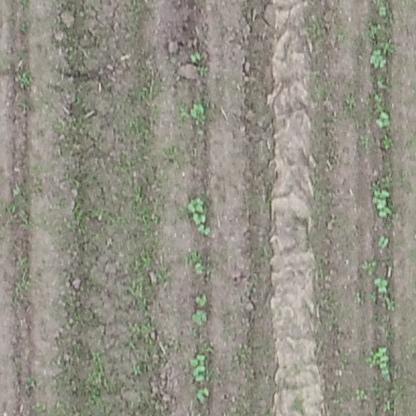vc: (372, 185, 394, 220), (372, 344, 394, 377), (187, 99, 207, 121), (367, 48, 386, 67), (372, 276, 391, 295), (186, 193, 204, 212), (189, 308, 209, 325), (193, 387, 213, 404), (375, 109, 392, 129), (187, 351, 208, 366), (189, 368, 208, 384), (376, 231, 391, 250), (192, 261, 208, 277), (193, 291, 209, 306), (196, 225, 214, 236), (190, 214, 209, 224), (377, 4, 388, 20)
